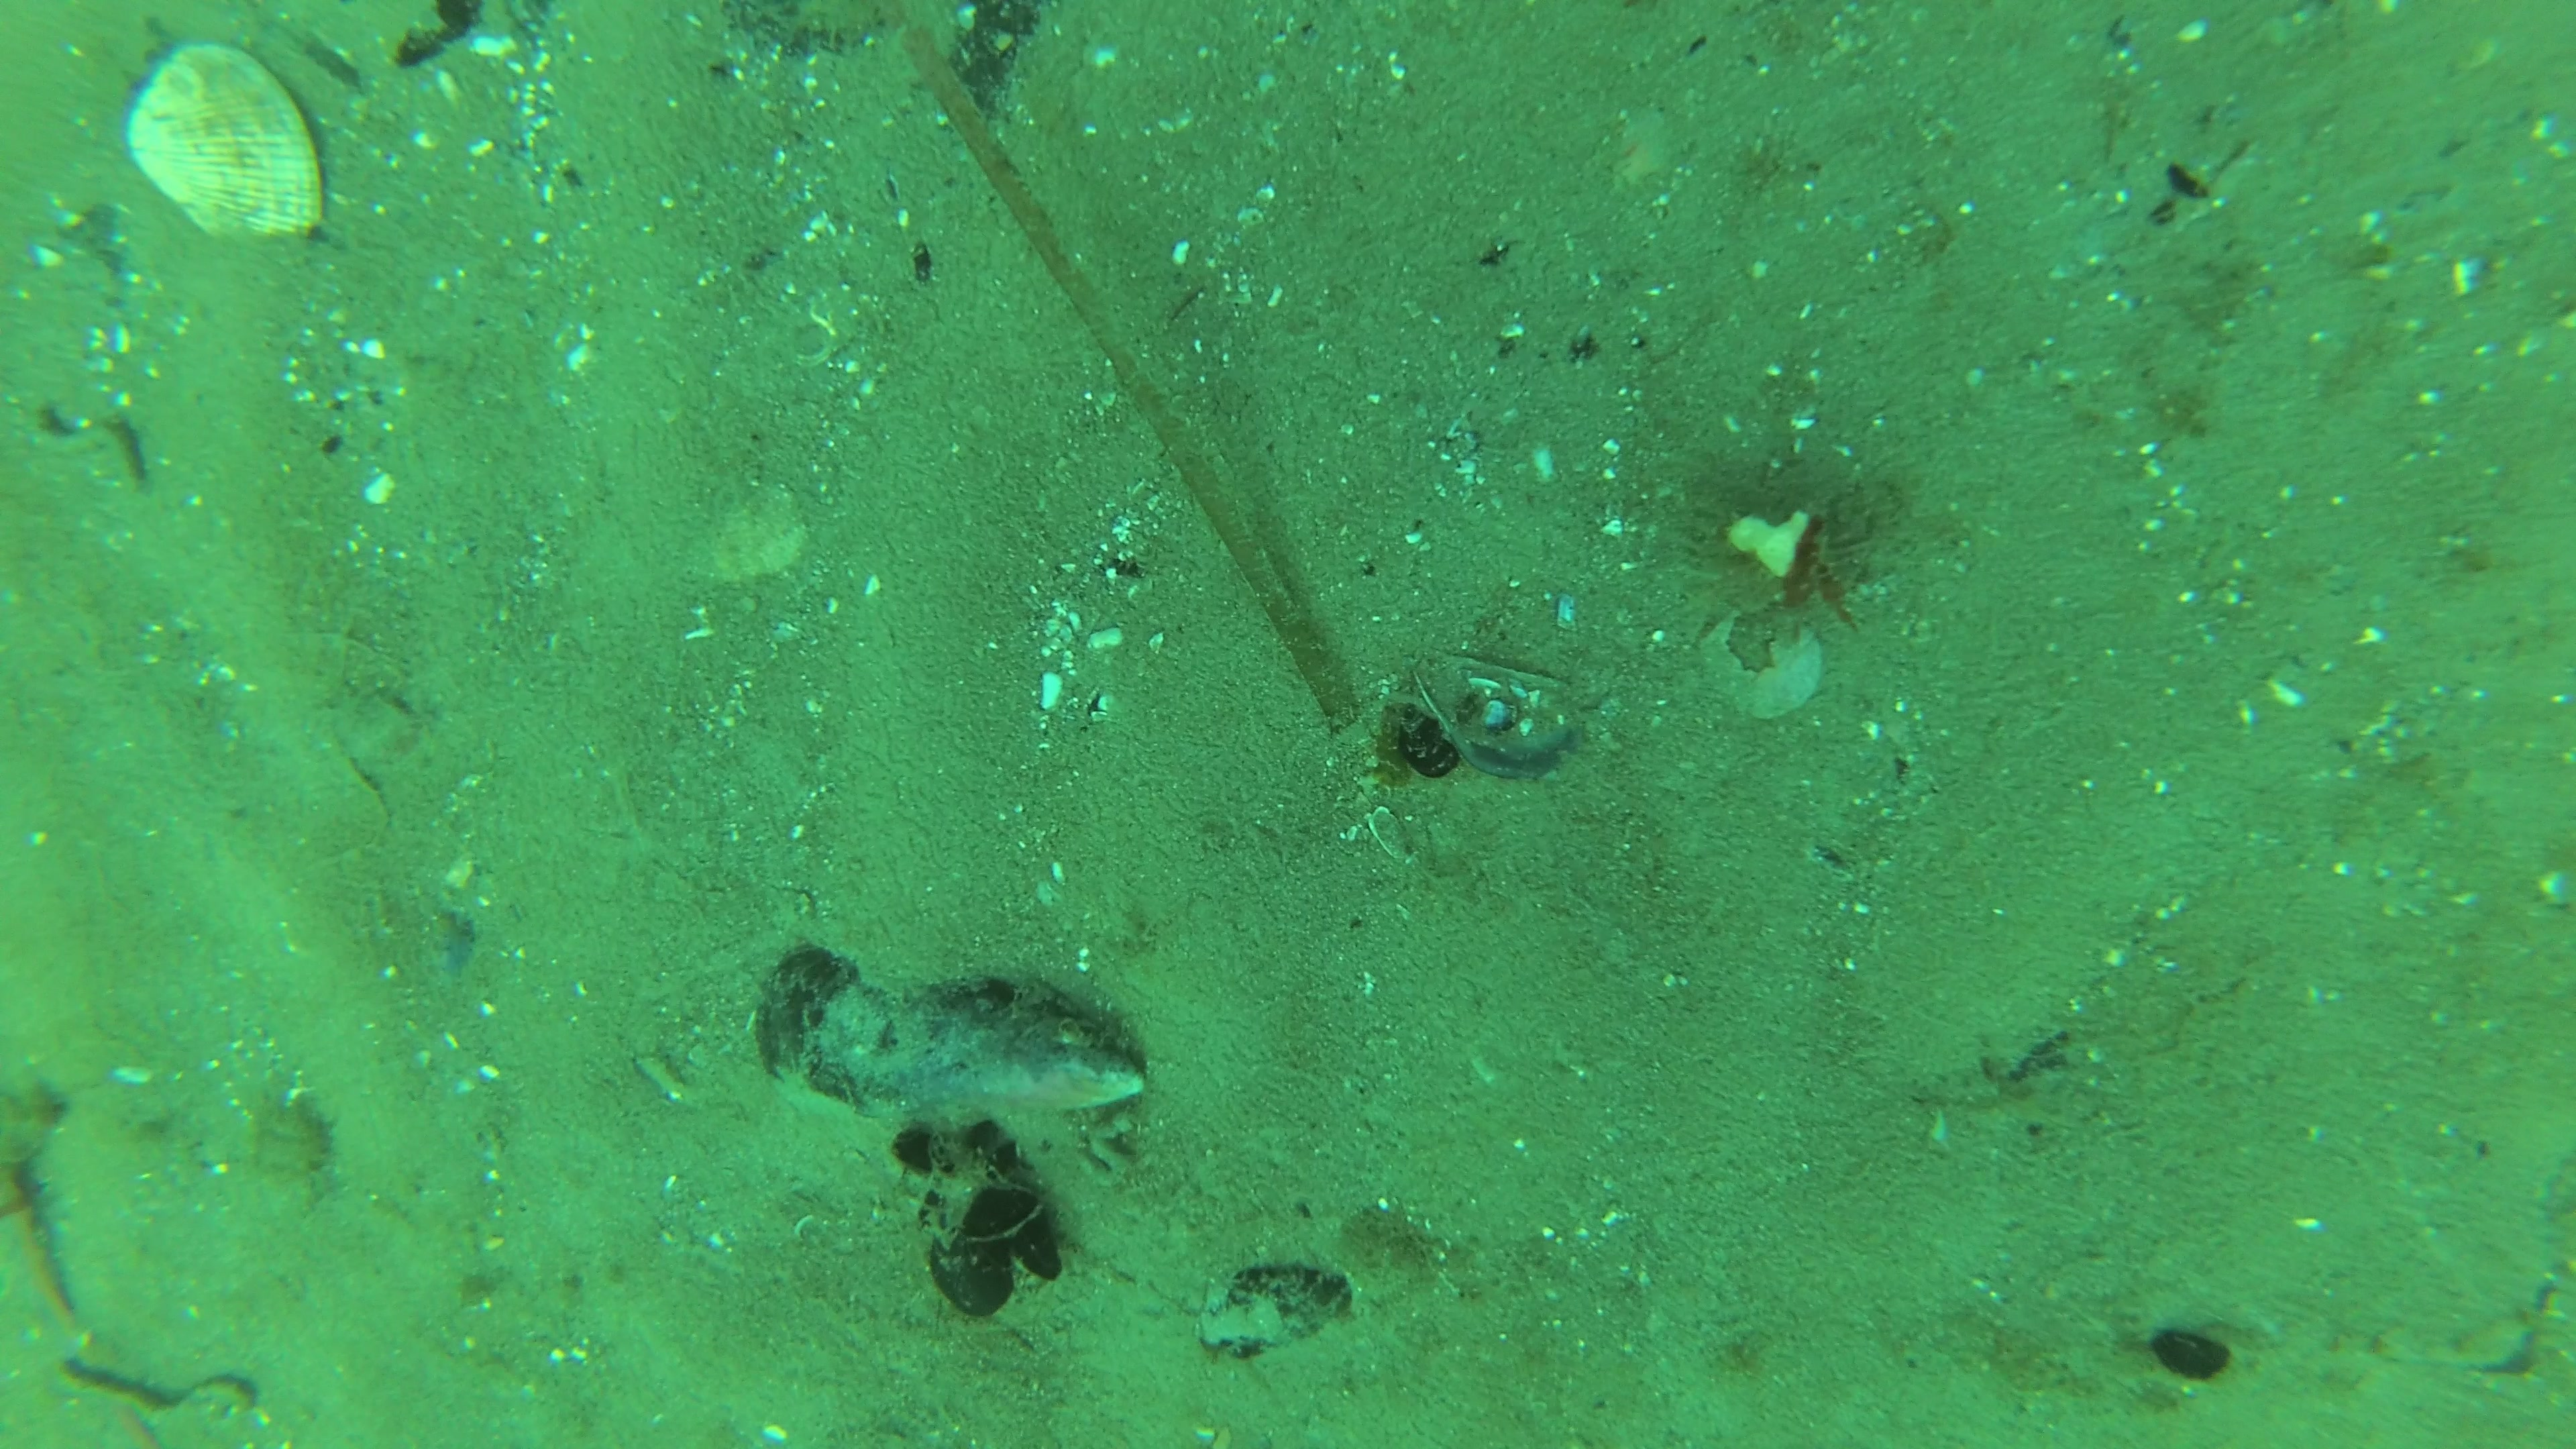scallop: (126, 39, 324, 248)
